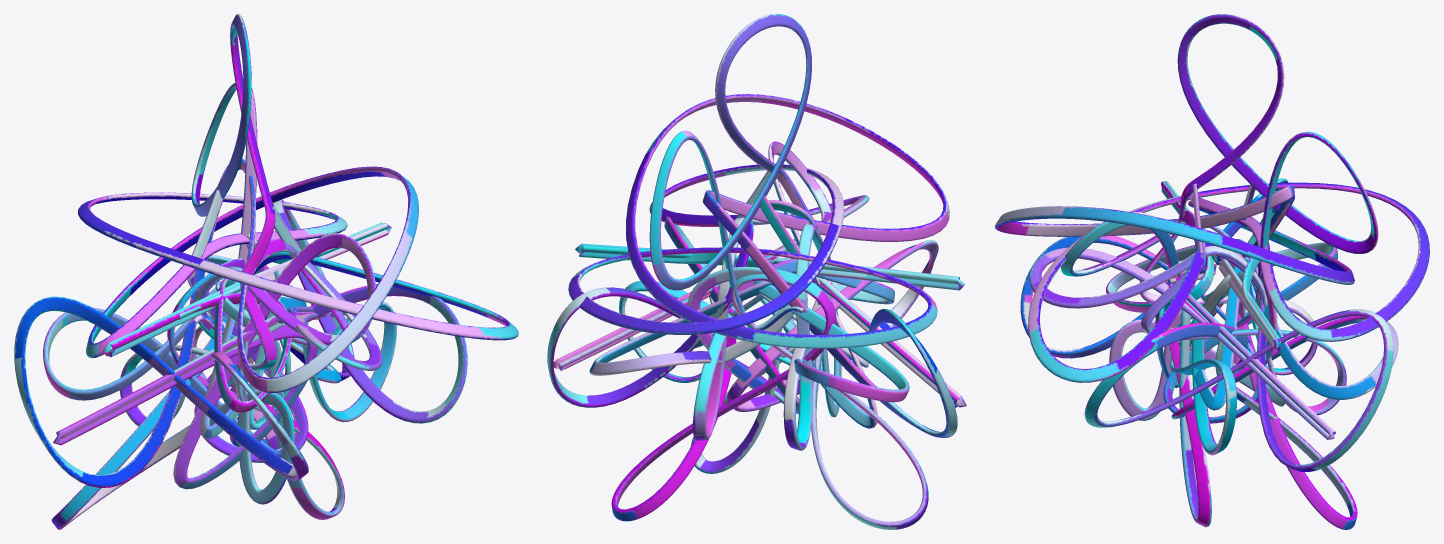
File: abstract_lines_explosion.glb
The picture shows the model from 3 angles, left to right: view 1: azimuth 30°, elevation 25°; view 2: azimuth 150°, elevation 25°; view 3: azimuth 270°, elevation 25°; orthographic projection. The views are drawn at different scales.
Visible parts, largest first — view 1: Plane.001_0; view 2: Plane.001_0; view 3: Plane.001_0.
Boxes of the visible parts, x1,y1,x2,y2 form: Plane.001_0: (14,14,518,529); Plane.001_0: (547,14,966,529); Plane.001_0: (995,14,1429,529).
Bounding box in the file's own units: 8.19 × 9.98 × 8.24.
Materials: 1 (1 with a texture image).
